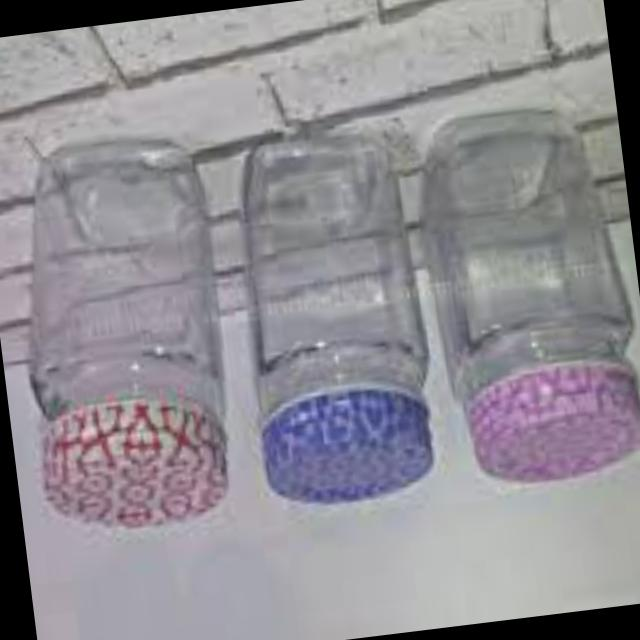ToplesKaca: (218, 117, 460, 534), (9, 128, 240, 552), (407, 107, 640, 490)
